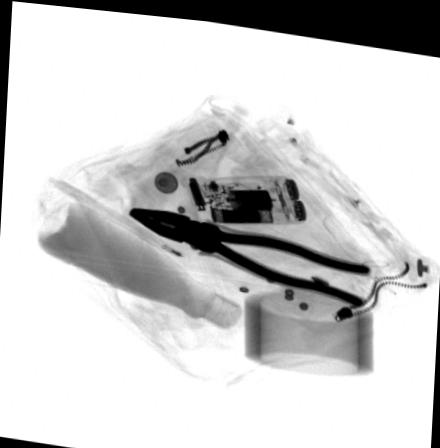Pliers: (124, 202, 372, 299)
